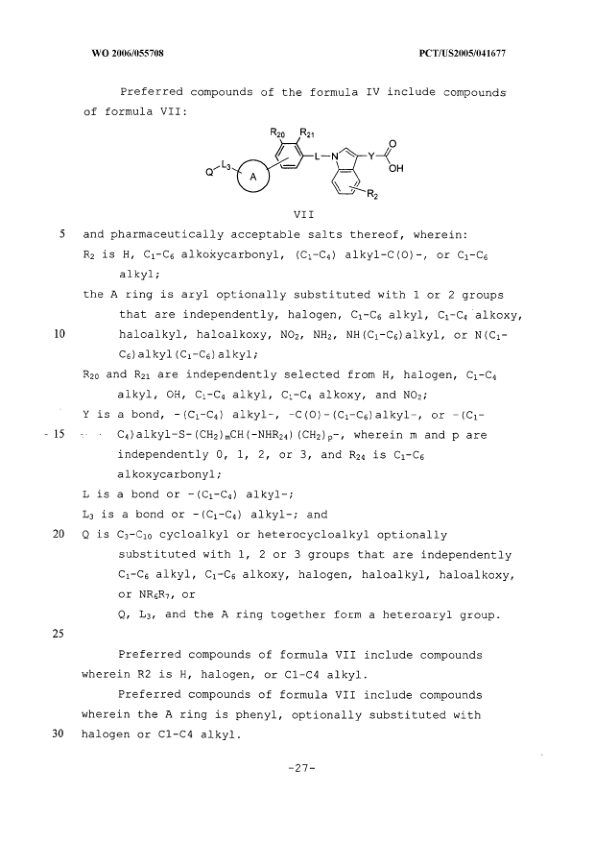compound-structure: (197, 115, 425, 215)
